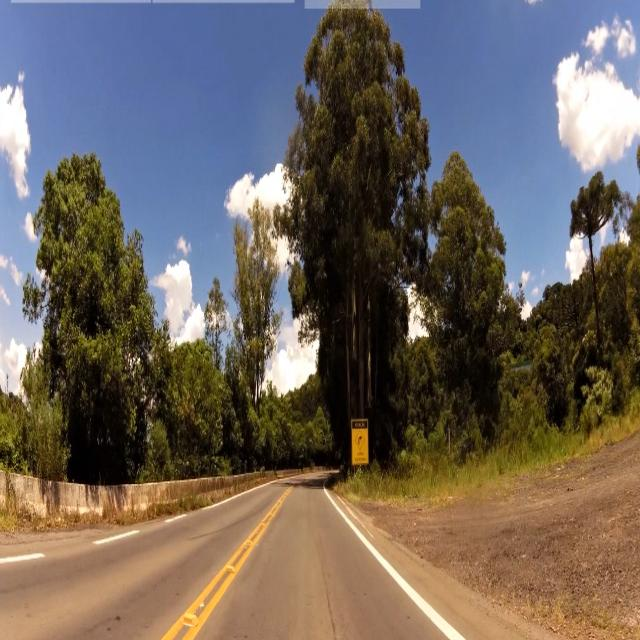A-1b: (355, 430, 366, 448)
